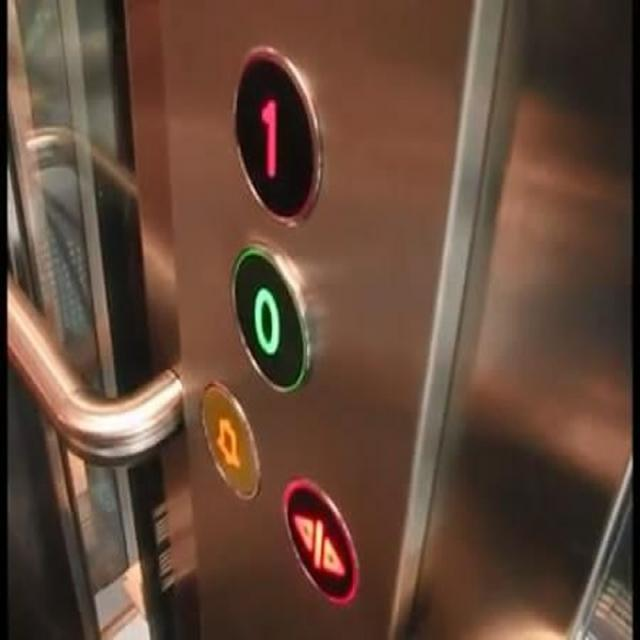0: (228, 241, 307, 392)
1: (229, 46, 322, 226)
alarm: (198, 380, 260, 501)
open: (280, 478, 358, 606)
